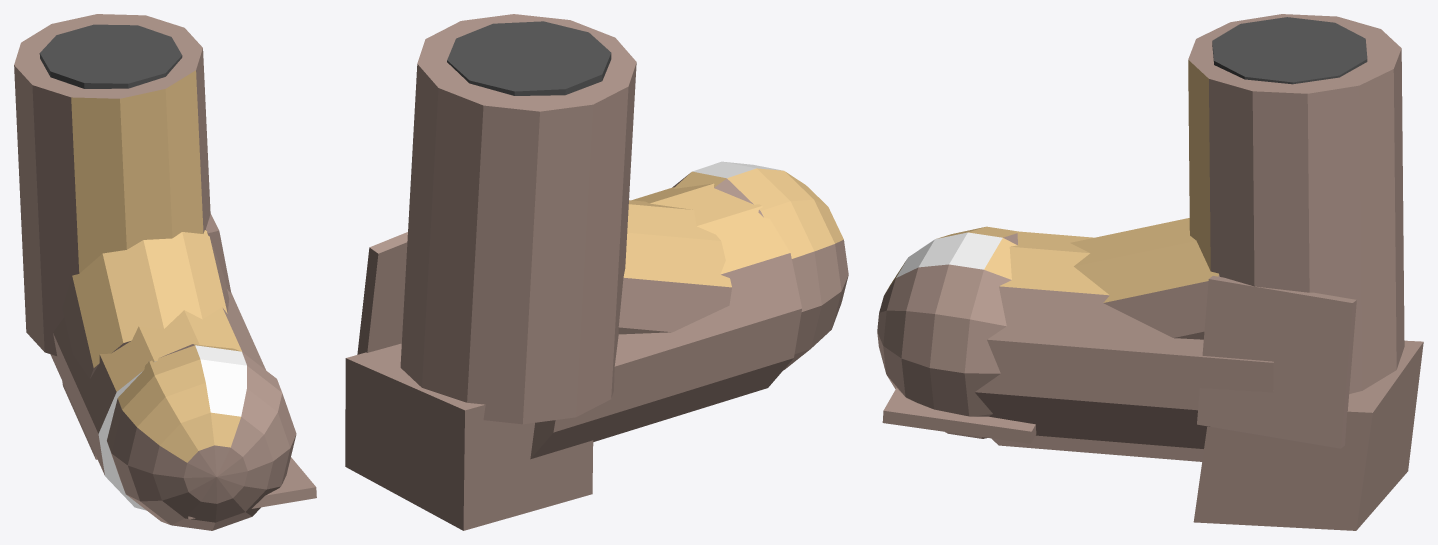
The model's file is boot.glb.
3 views of the same model, side by side, from view 1: azimuth 30°, elevation 25°; view 2: azimuth 150°, elevation 25°; view 3: azimuth 270°, elevation 25° (orthographic). The views are drawn at different scales.
Parts seen in each view (by area): view 1: group1857261620, group916002974, group1650292541, group1705218323, group2044799114, group689347577, group80382754; view 2: group1857261620, group1705218323, group970467367, group1650292541, group916002974, group2044799114, group80382754; view 3: group1857261620, group1705218323, group970467367, group80382754, group916002974, group1650292541, group2044799114, group689347577.
Part boxes in pixels (x1=…): group1857261620: x1=14, y1=14, x2=210, y2=355; group916002974: x1=107, y1=344, x2=296, y2=530; group1650292541: x1=62, y1=230, x2=229, y2=378; group1705218323: x1=50, y1=289, x2=265, y2=510; group2044799114: x1=39, y1=24, x2=182, y2=88; group689347577: x1=188, y1=457, x2=316, y2=519; group80382754: x1=205, y1=214, x2=231, y2=292; group1857261620: x1=400, y1=14, x2=636, y2=424; group1705218323: x1=530, y1=183, x2=801, y2=459; group970467367: x1=345, y1=343, x2=593, y2=530; group1650292541: x1=618, y1=200, x2=731, y2=334; group916002974: x1=672, y1=161, x2=848, y2=369; group2044799114: x1=447, y1=21, x2=611, y2=95; group80382754: x1=357, y1=232, x2=407, y2=354; group1857261620: x1=1188, y1=14, x2=1404, y2=393; group1705218323: x1=974, y1=231, x2=1273, y2=461; group970467367: x1=1193, y1=340, x2=1423, y2=530; group80382754: x1=1197, y1=276, x2=1356, y2=448; group916002974: x1=877, y1=226, x2=1017, y2=438; group1650292541: x1=1070, y1=218, x2=1219, y2=339; group2044799114: x1=1212, y1=17, x2=1367, y2=84; group689347577: x1=882, y1=388, x2=1036, y2=443.
Bounding box in the file's own units: 0.1238 × 0.178 × 0.2033.
